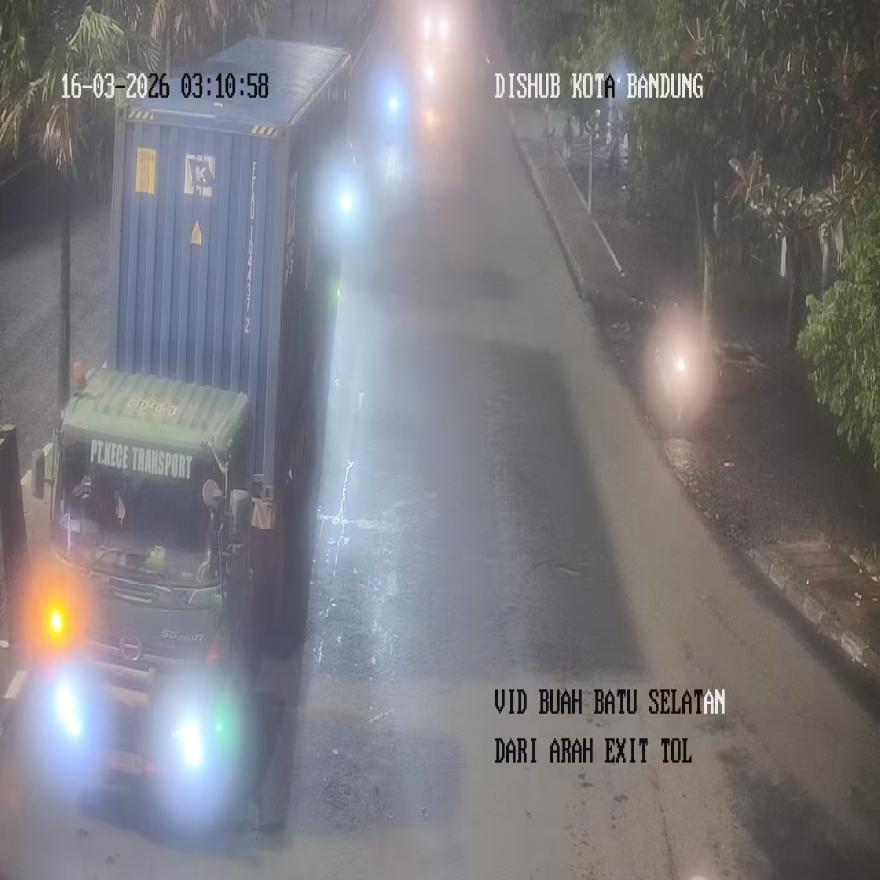Mobil: (421, 5, 450, 46)
Motor: (649, 304, 715, 430), (655, 345, 690, 424), (378, 82, 402, 138)
Truk berat: (30, 37, 360, 819)
